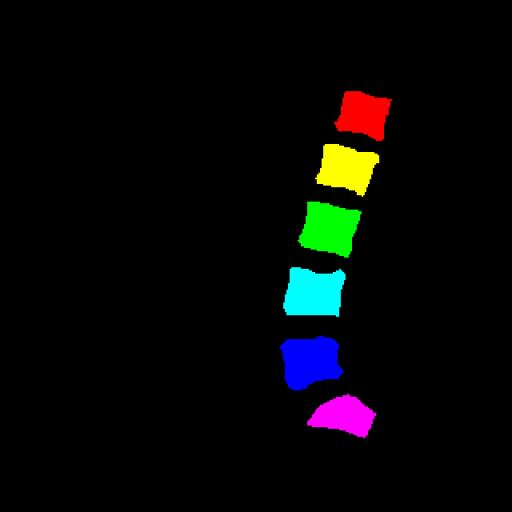L1: (335, 91, 391, 141)
L2: (316, 144, 379, 196)
L3: (298, 201, 361, 258)
L4: (283, 267, 346, 316)
L5: (280, 336, 343, 390)
S1: (307, 394, 376, 438)
